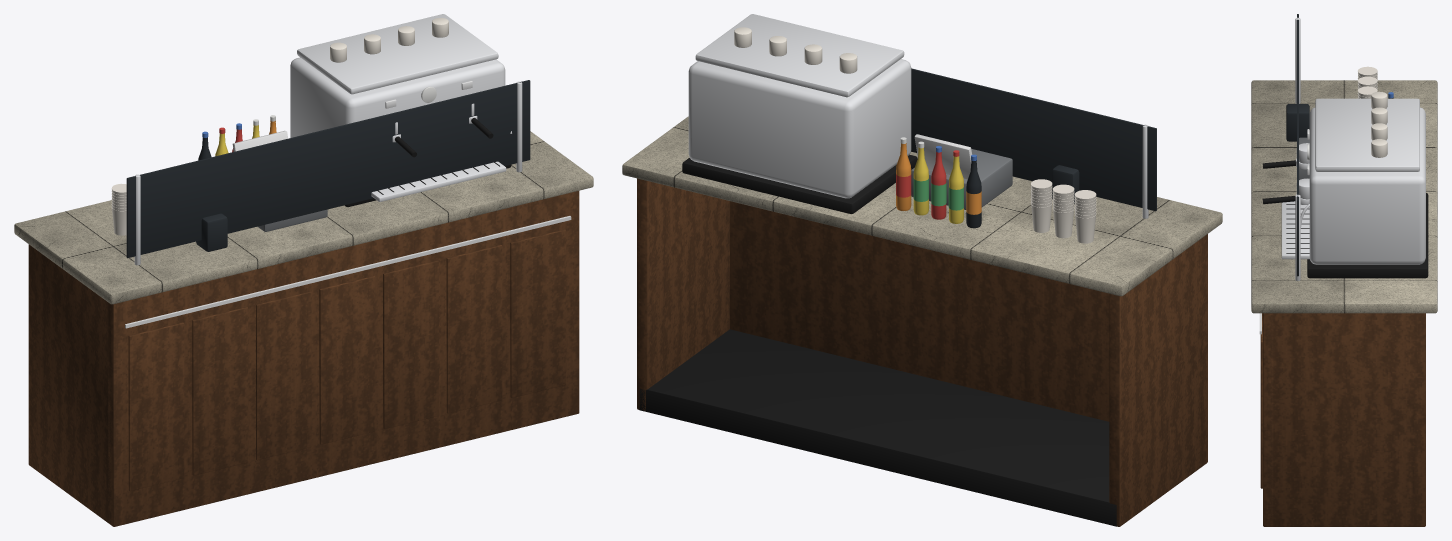
File: KioskCoffeeCounter.fbx
3 views of the same model, side by side, from view 1: azimuth 30°, elevation 25°; view 2: azimuth 150°, elevation 25°; view 3: azimuth 270°, elevation 25° (orthographic). The views are drawn at different scales.
Parts seen in each view (by area): view 1: KioskCoffeeCounter; view 2: KioskCoffeeCounter; view 3: KioskCoffeeCounter.
Part boxes in pixels (x1,y1,x2,y2): KioskCoffeeCounter: (14,14,593,526); KioskCoffeeCounter: (622,14,1222,526); KioskCoffeeCounter: (1251,14,1437,526).
Size of the model in its own units: 2.28 by 1.65 by 0.8.
